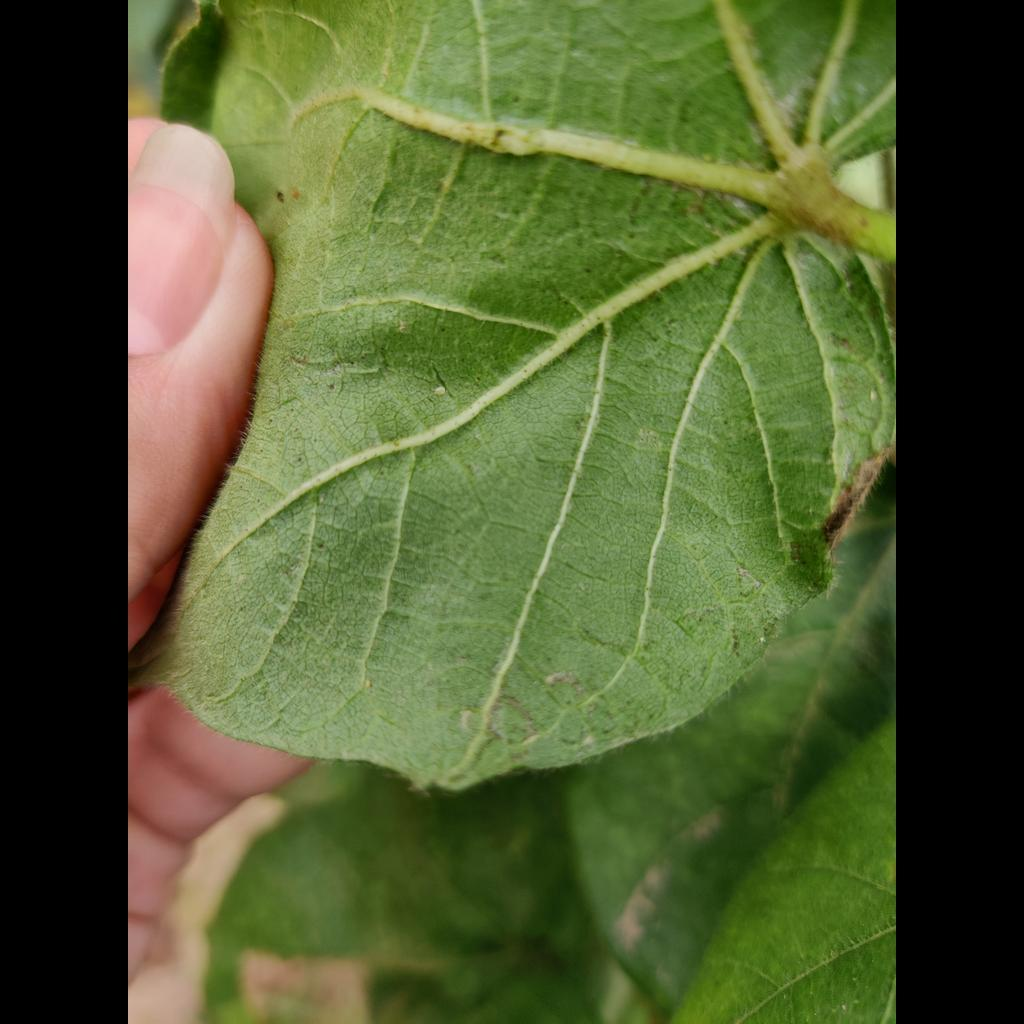nymph: (433, 387, 445, 395), (869, 389, 876, 401)
